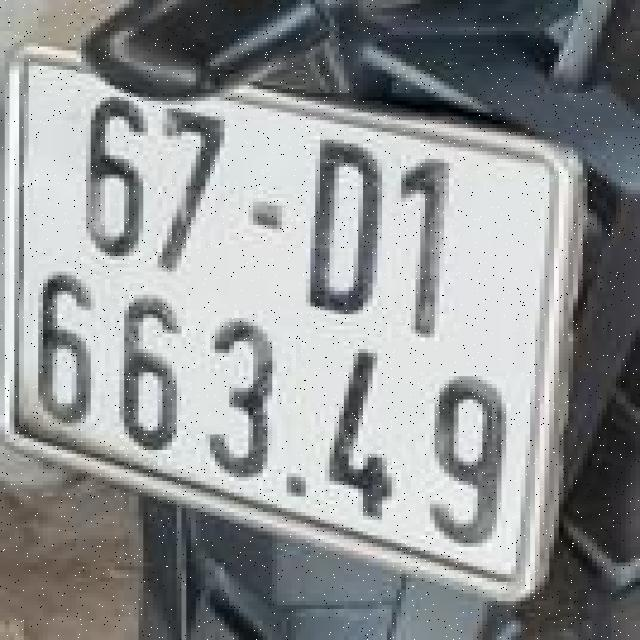1: (380, 150, 471, 347)
3: (198, 310, 289, 490)
4: (309, 340, 432, 532)
6: (105, 287, 200, 467), (68, 88, 161, 263), (25, 263, 113, 439)
7: (148, 100, 241, 284)
9: (400, 368, 530, 555)
D: (296, 130, 391, 326)
